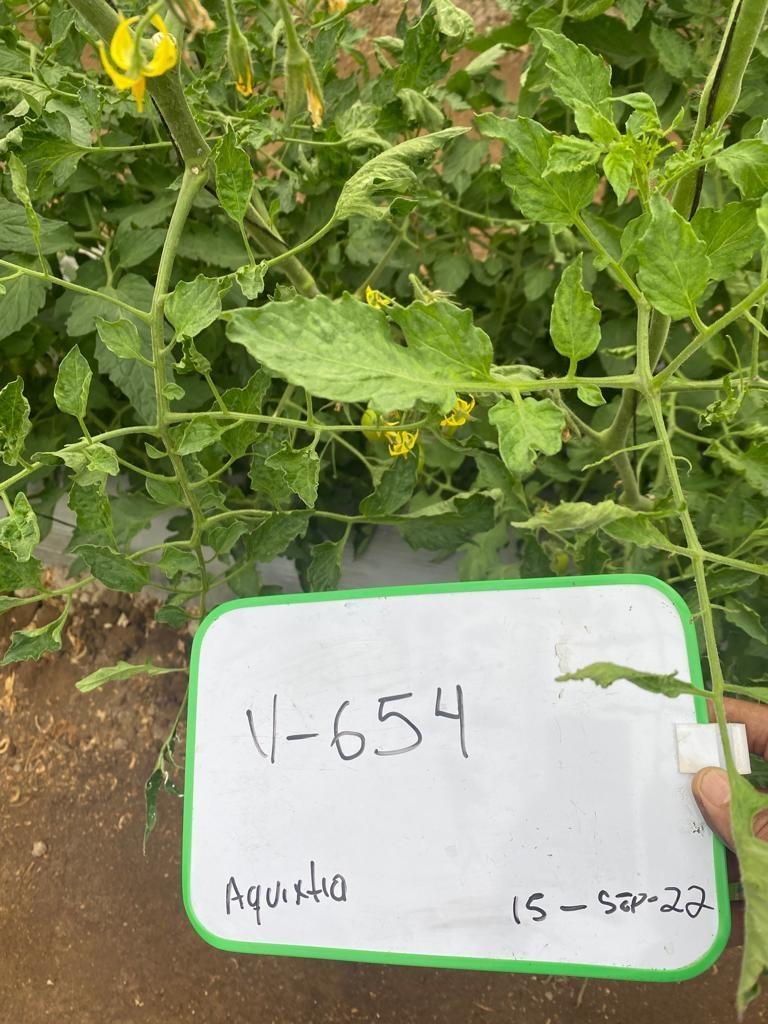Rugose leaf: (226, 295, 529, 415), (478, 114, 598, 234), (333, 126, 468, 220), (638, 194, 710, 319), (539, 28, 612, 120), (550, 254, 602, 375), (488, 394, 566, 474), (2, 597, 70, 664), (164, 274, 222, 342), (216, 128, 254, 224), (266, 442, 320, 508), (74, 546, 148, 592), (54, 346, 92, 422), (0, 492, 40, 562), (97, 316, 150, 363), (543, 136, 602, 176), (170, 416, 226, 456), (604, 142, 634, 204)
Rugose stem: (148, 70, 212, 436), (634, 305, 704, 578), (692, 551, 733, 768), (71, 0, 118, 44), (736, 0, 766, 23)
